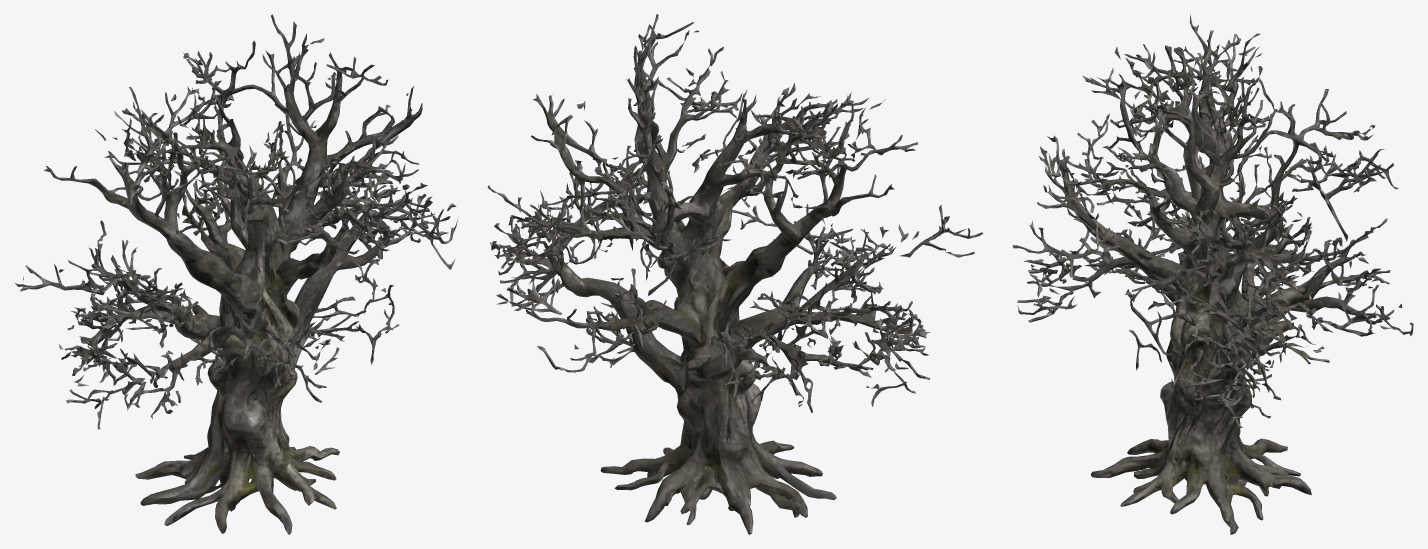
The model's file is bare_oak.glb.
3 views of the same model, side by side, from view 1: azimuth 30°, elevation 25°; view 2: azimuth 150°, elevation 25°; view 3: azimuth 270°, elevation 25° (orthographic).
Visible parts, largest first — view 1: geometry_0; view 2: geometry_0; view 3: geometry_0.
Part boxes in pixels (left/top/right/bottom): geometry_0: left=15, top=14, right=457, bottom=534; geometry_0: left=487, top=14, right=983, bottom=534; geometry_0: left=1012, top=14, right=1413, bottom=534.
Bounding box in the file's own units: 11.82 × 12 × 9.81.
Materials: 1 (1 with a texture image).
